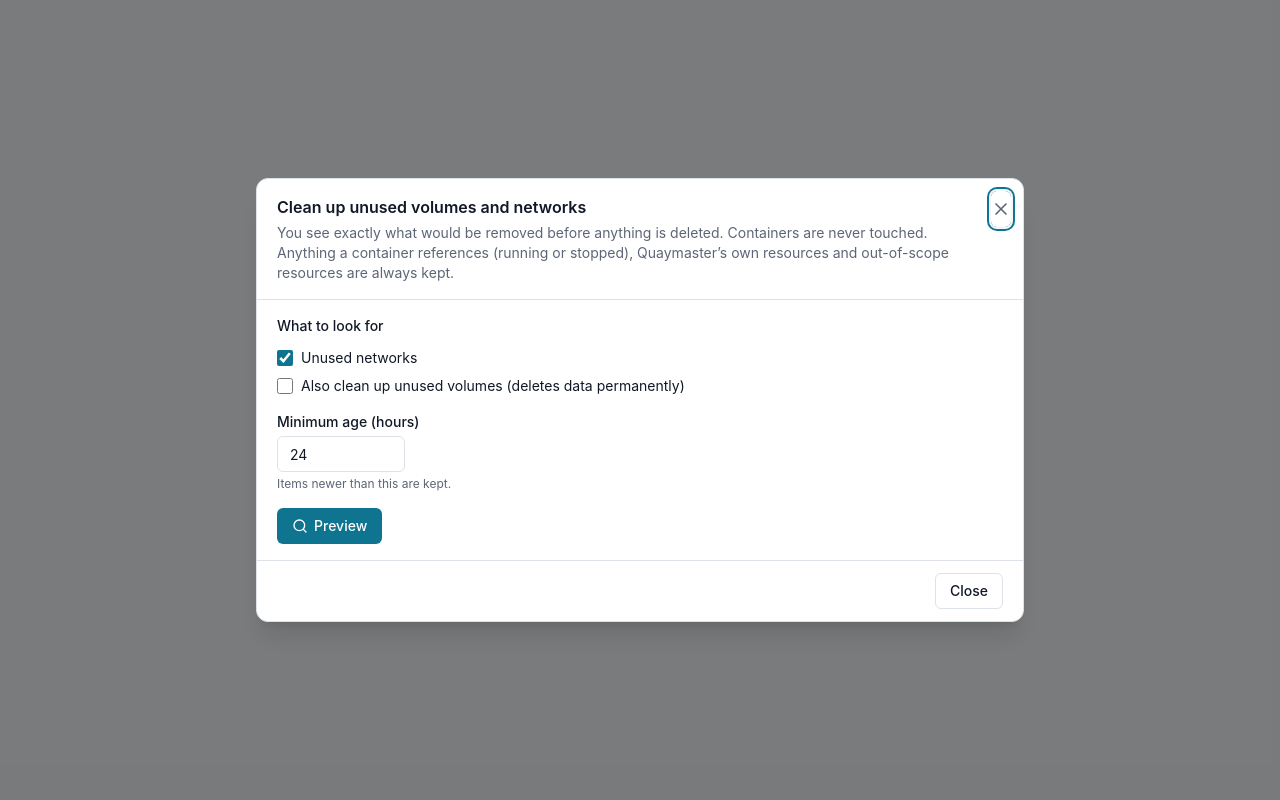
Test: StorageCleanupDialog › a network-only preview needs no typed phrase and shows no data-loss banner
Click the button "Preview" at coordinates (330, 526), box [277,508,382,544]
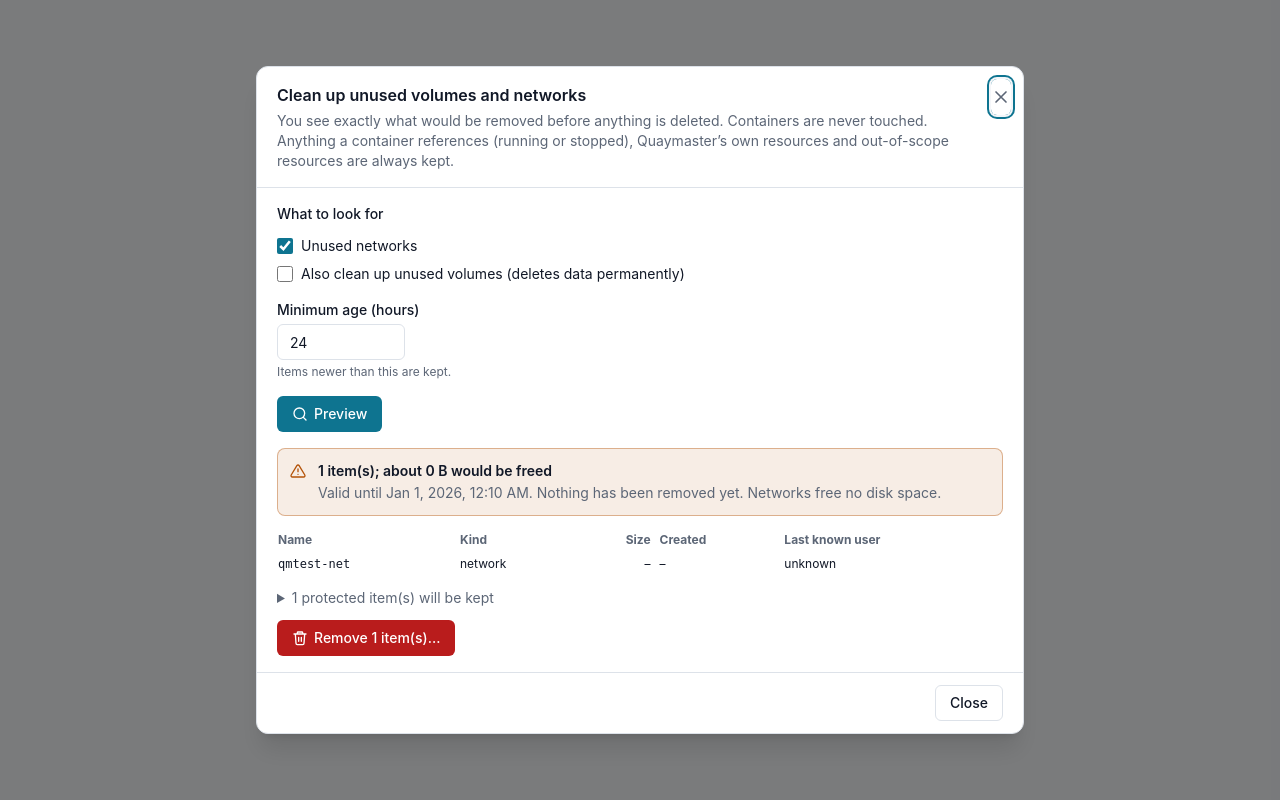
expect the text "qmtest-net" is shown: met, box [277,552,459,576]
Click the button "Remove 1 item(s)…" at coordinates (366, 638), box [277,620,455,656]
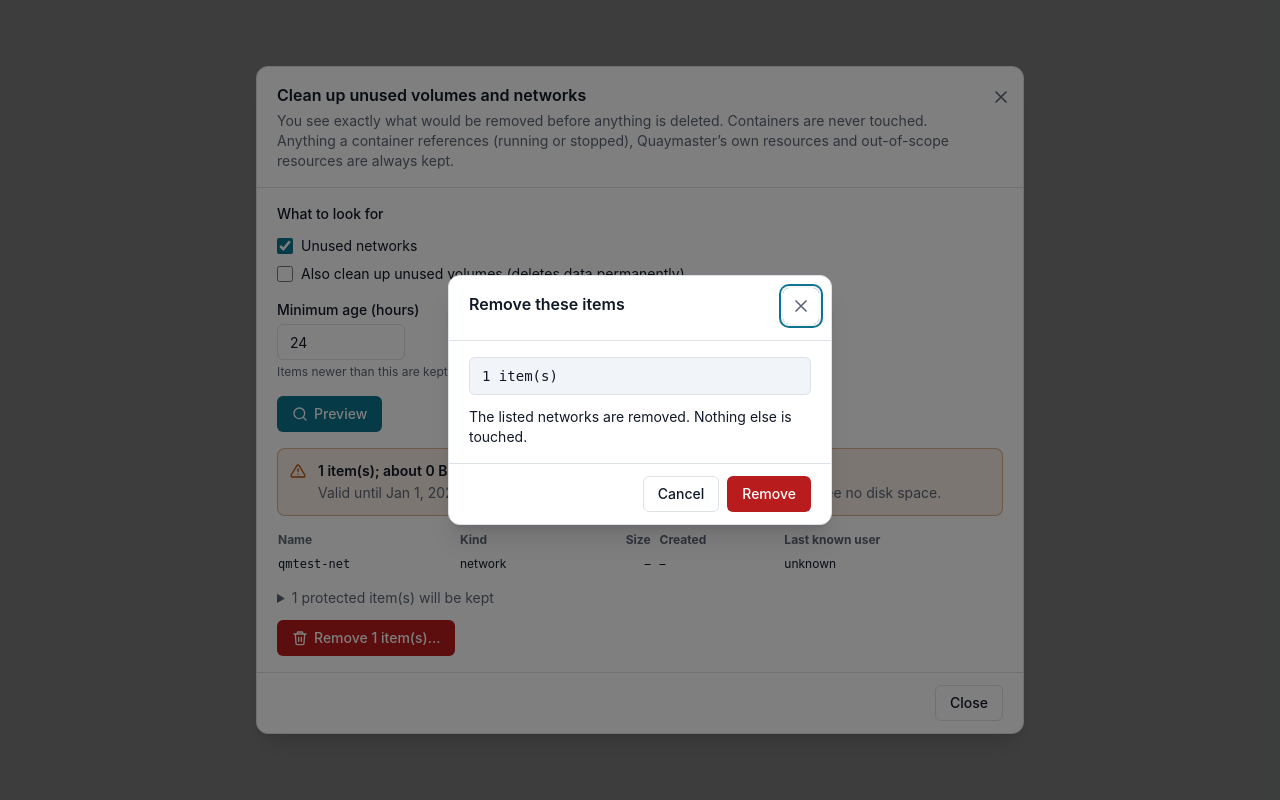
expect the button "Remove" is enabled: met, box [727,476,811,512]
